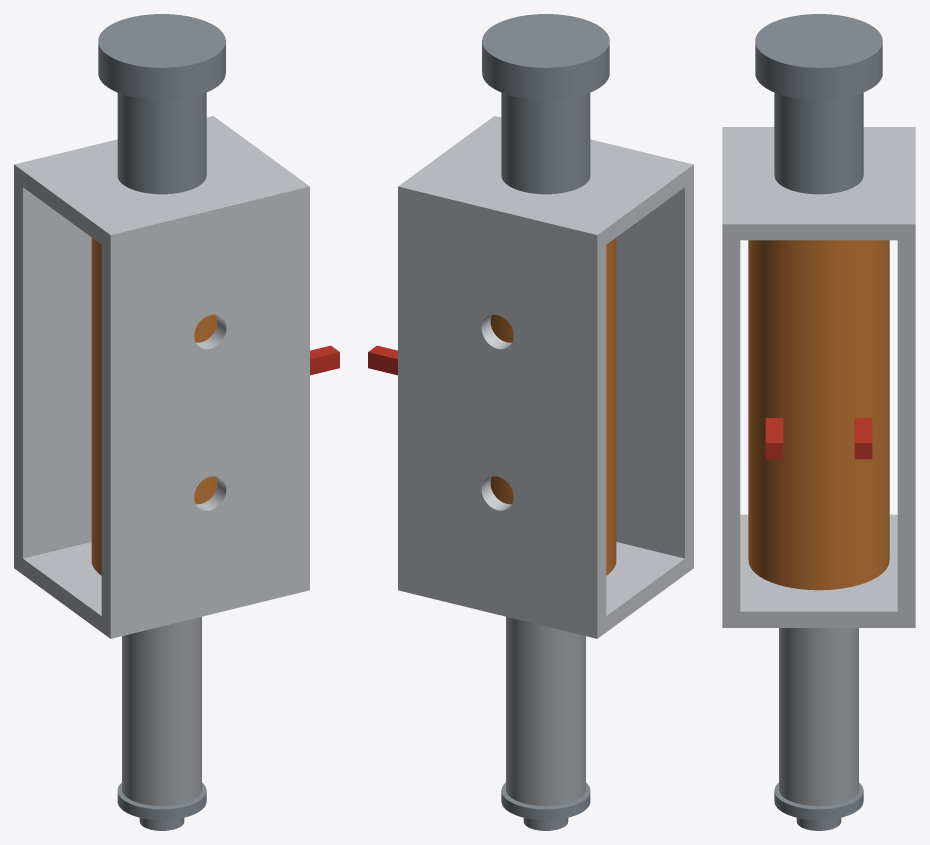
The model's file is sol_jf0530.glb.
The picture shows the model from 3 angles, left to right: view 1: azimuth 30°, elevation 25°; view 2: azimuth 150°, elevation 25°; view 3: azimuth 270°, elevation 25°; orthographic projection.
Visible parts, largest first — view 1: sol_jf0530; view 2: sol_jf0530; view 3: sol_jf0530.
Part boxes in pixels (x1,y1,x2,y2): sol_jf0530: (14, 14, 339, 830); sol_jf0530: (368, 14, 693, 830); sol_jf0530: (722, 14, 915, 830).
Bounding box in the file's own units: 19.5 × 58 × 13.
